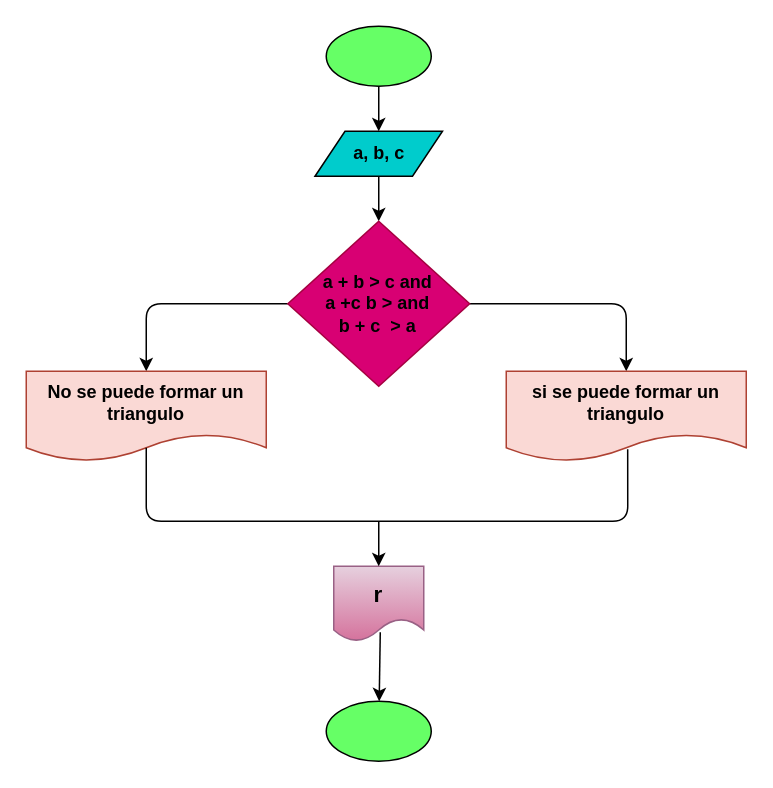
This 773x788 diagram has some shape labels left out. Here are the shapes that lost their labels. From the top down, the centre of each, then its label:
At (378,55): "INICIO".
At (378,730): "FIN".
